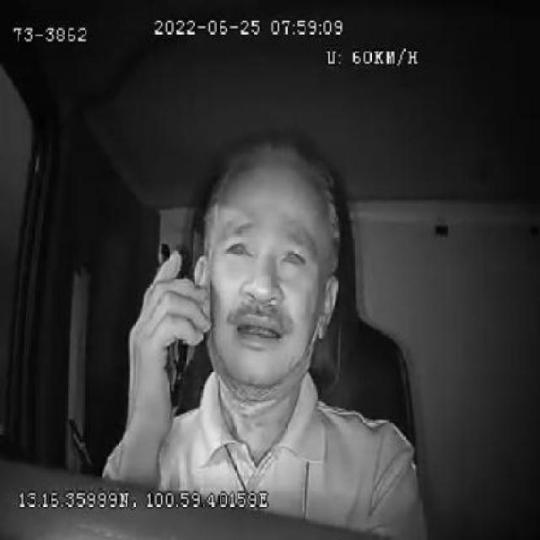phone: (153, 238, 192, 415)
